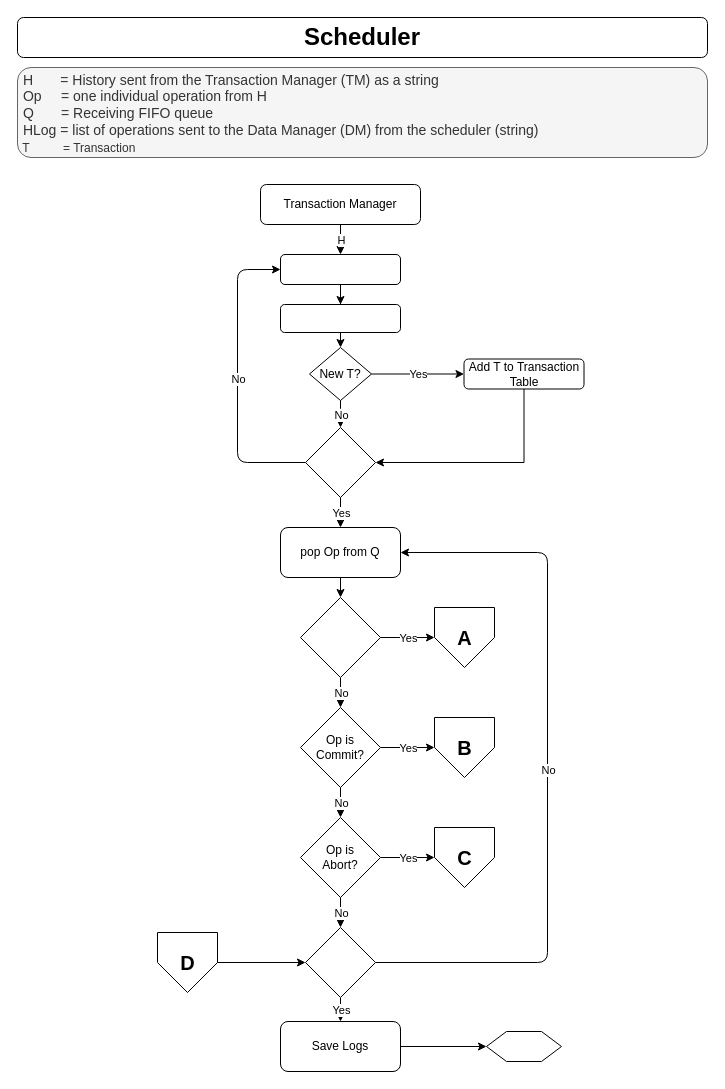
Image size: 725x1089. Some labels were removed from this diagram. The centre of each missing label's shape, as x and y in pixels:
Exit: (524,1046)
Get Op from H: (340,269)
Last Op from H?: (340,462)
Last Op from Q?: (340,962)
Op is Read or Write?: (340,637)
push Op to Q: (340,318)
